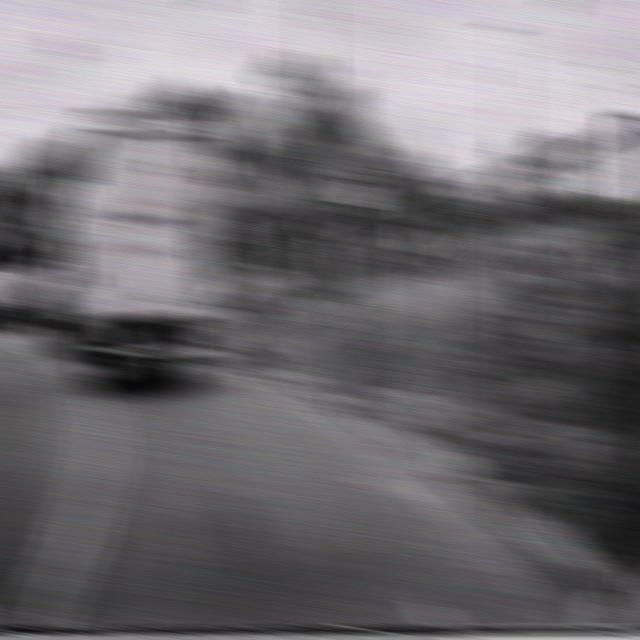stop: (218, 208, 254, 244)
